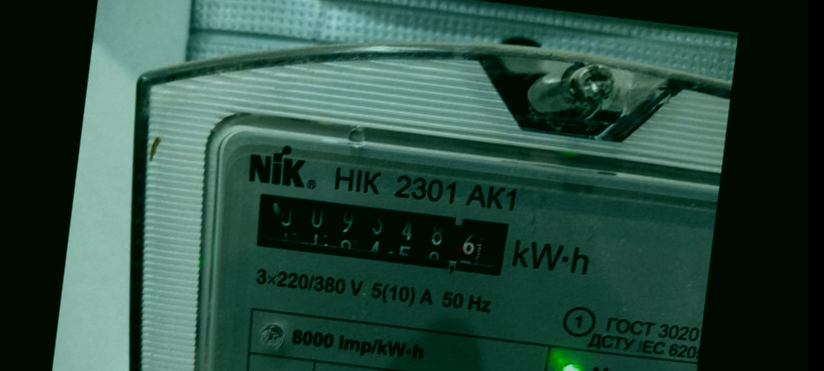0: (308, 204, 326, 229), (278, 201, 294, 228)
3: (369, 211, 386, 238)
4: (398, 214, 415, 243)
6: (459, 229, 479, 258)
8: (428, 219, 446, 249)
9: (338, 208, 356, 236)
screen: (244, 185, 519, 286)
